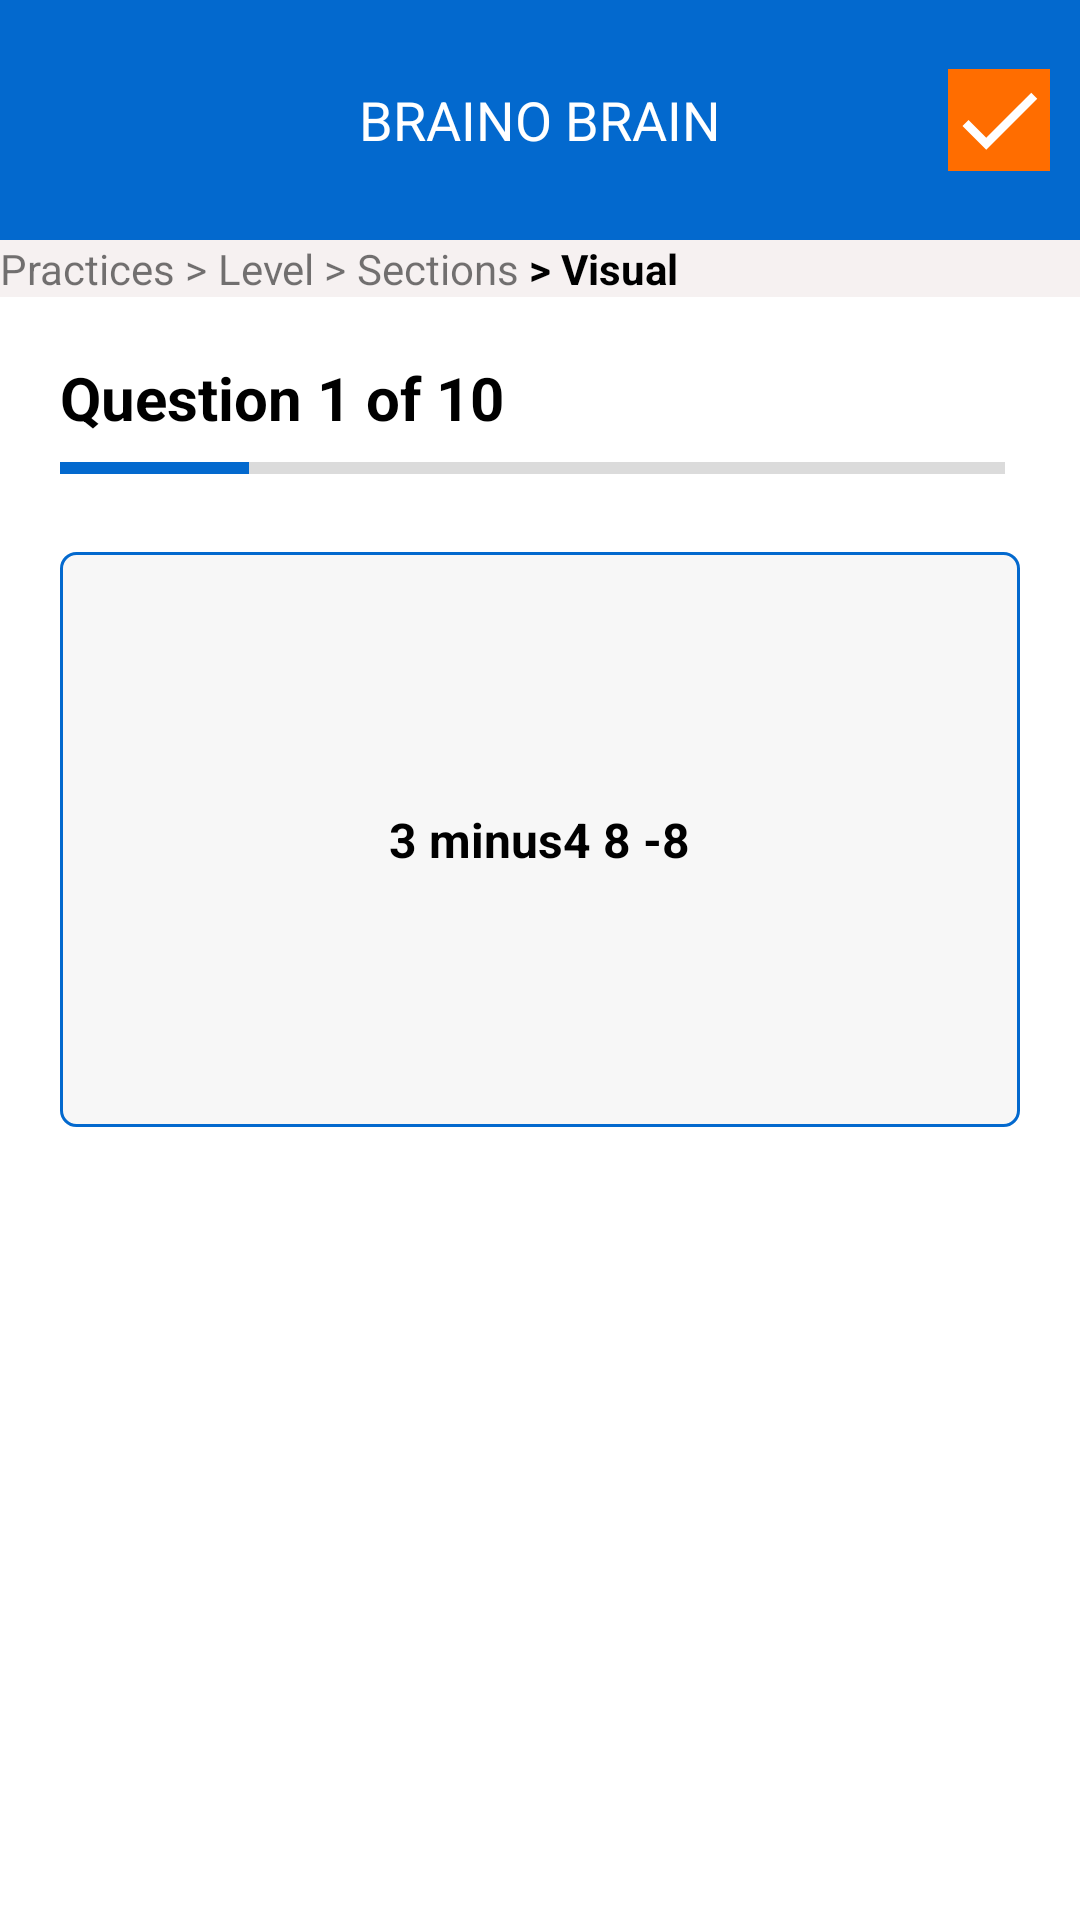

Icon click points for this 1080 x 1920 phone screenshot, format point (x, y):
check: point (999, 120)
